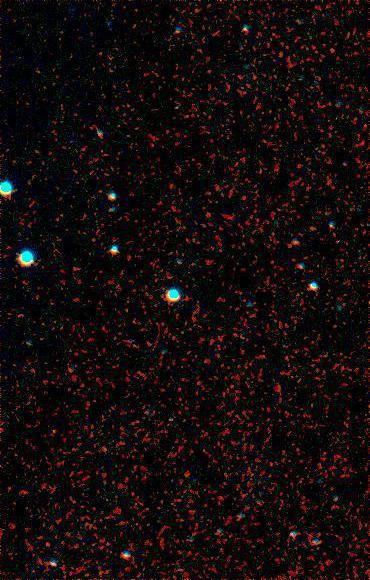star: (90, 434, 120, 464)
